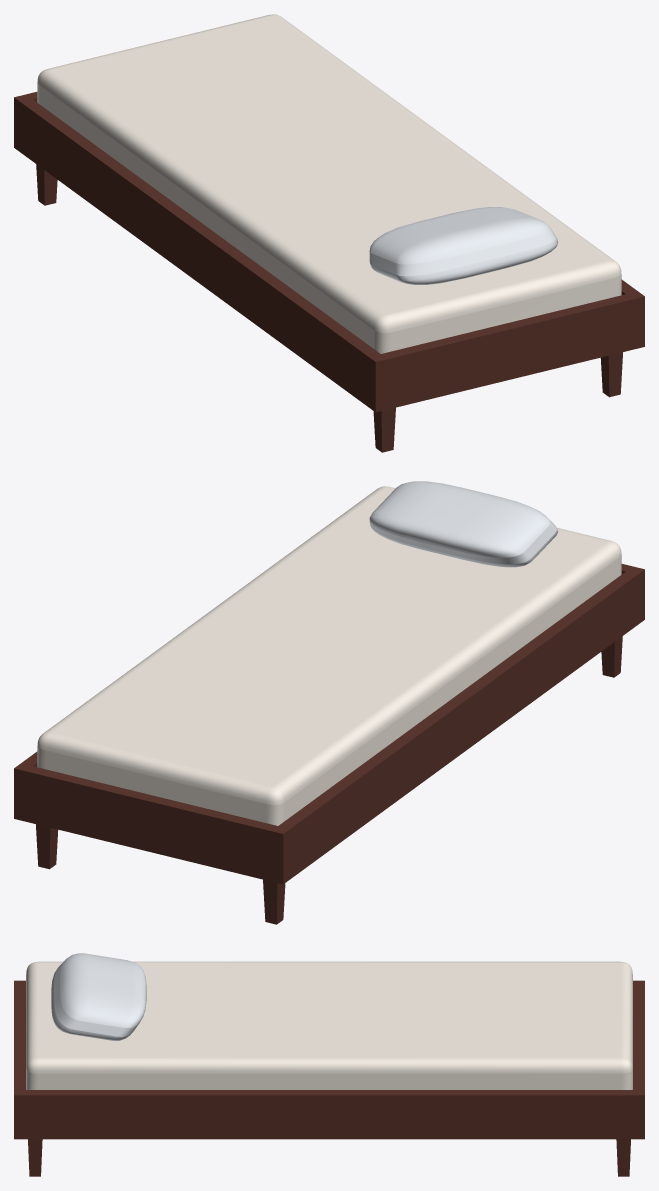
File: Beds.glb
The picture shows the model from 3 angles, top to bottom: view 1: azimuth 30°, elevation 25°; view 2: azimuth 150°, elevation 25°; view 3: azimuth 270°, elevation 25°; orthographic projection. The views are drawn at different scales.
Parts seen in each view (by area): view 1: Mattress, BedFrame, Pillow, Legs (×3); view 2: Mattress, BedFrame, Pillow, Legs (×3); view 3: Mattress, BedFrame, Pillow, Legs (×2).
Part boxes in pixels (left/top/right/bottom): Mattress: left=37, top=14, right=621, bottom=353; BedFrame: left=14, top=92, right=644, bottom=412; Pillow: left=369, top=207, right=558, bottom=284; Legs (×3): left=36, top=164, right=622, bottom=452; Mattress: left=37, top=486, right=621, bottom=825; BedFrame: left=14, top=564, right=644, bottom=884; Pillow: left=369, top=481, right=558, bottom=567; Legs (×3): left=36, top=636, right=622, bottom=924; Mattress: left=26, top=961, right=632, bottom=1089; BedFrame: left=14, top=980, right=644, bottom=1139; Pillow: left=51, top=953, right=146, bottom=1040; Legs (×2): left=28, top=1139, right=630, bottom=1176.
Size of the model in its own units: 1.12 by 0.6782 by 2.6.
